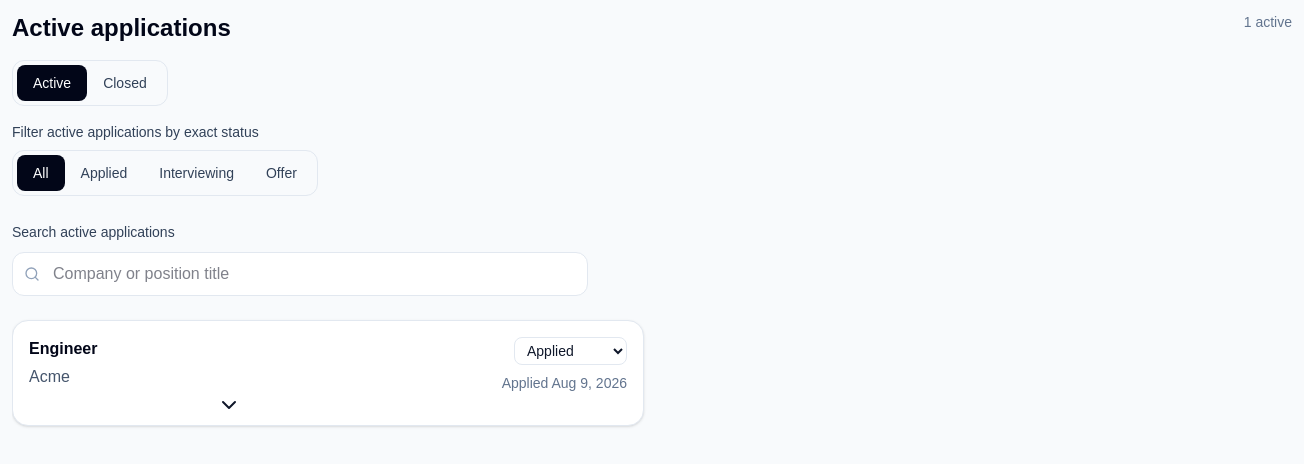
Test case: ActiveApplicationList › offers all labelled statuses and refreshes a same-group change
This screenshot has width=1304, height=464.
Select "Offer" in the dropdown named "Status for Engineer" at (570, 351), box [514,337,627,365]
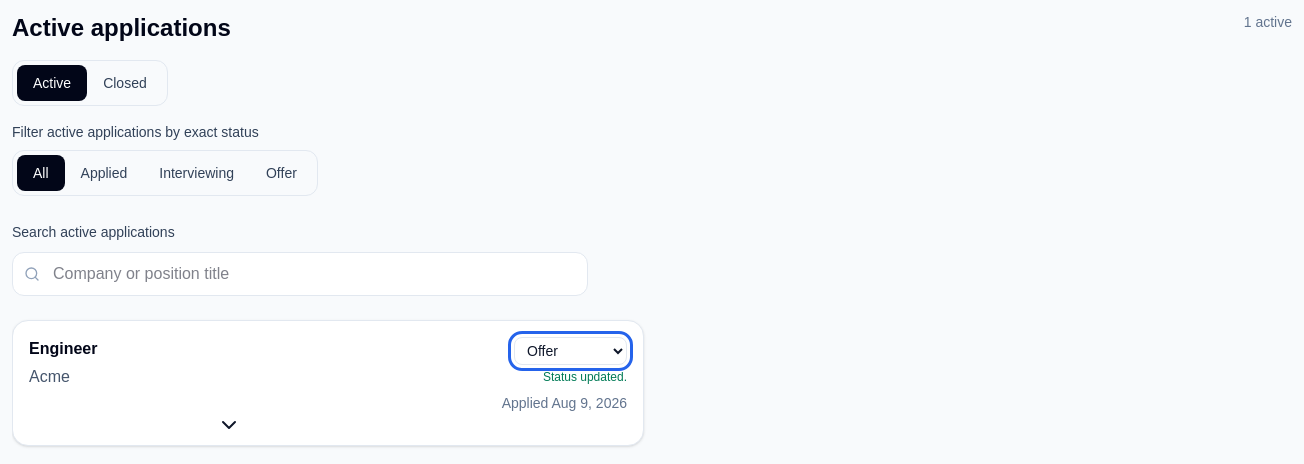
Expected: the text "Status updated." is shown, [543,370,627,384]
